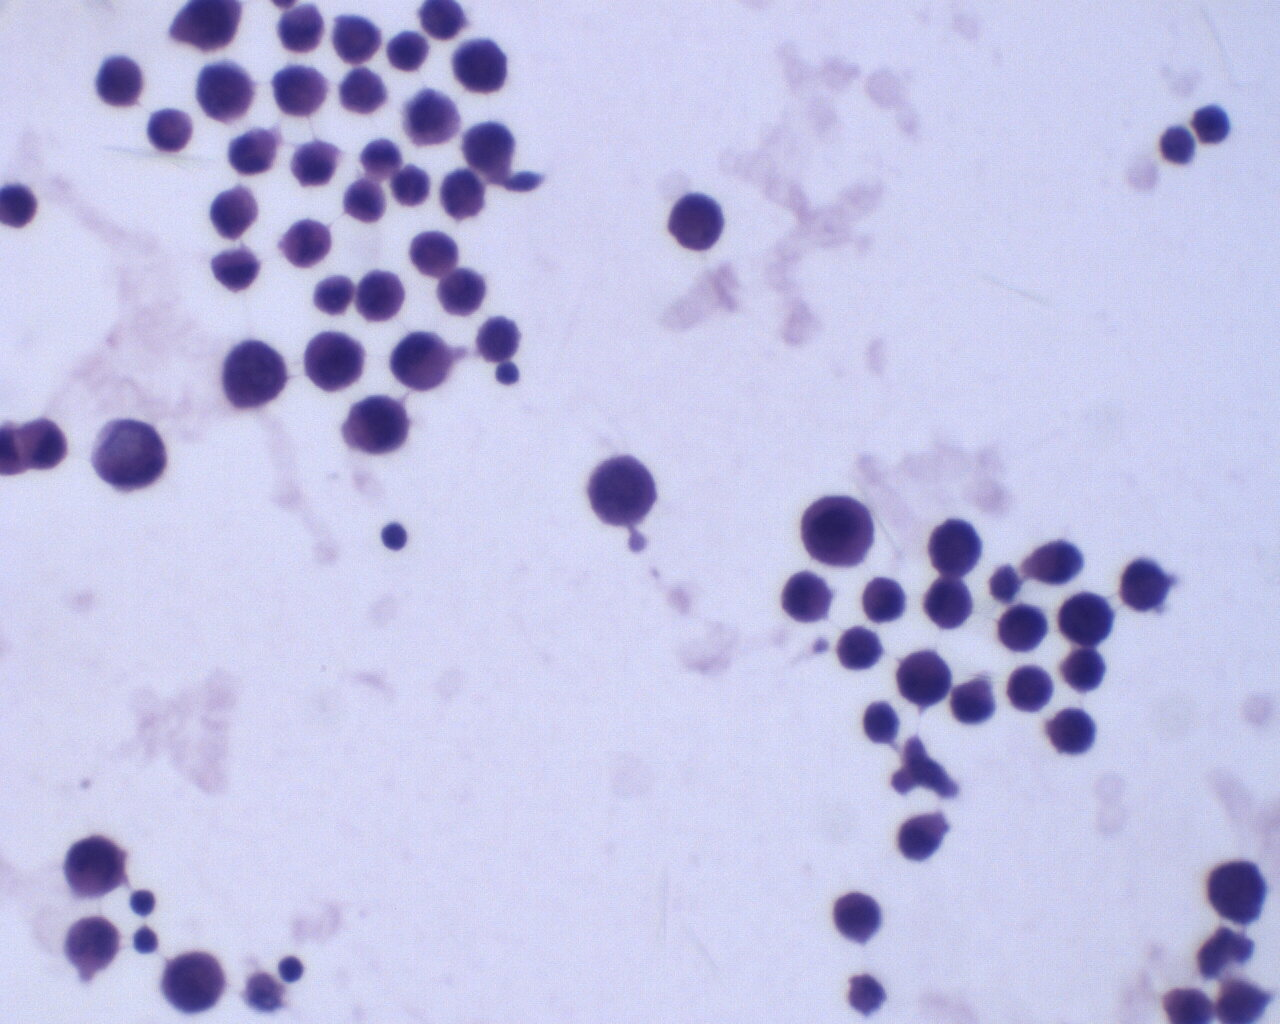ab: (801, 494, 877, 571), (1205, 850, 1274, 927), (589, 453, 656, 531), (224, 338, 289, 410), (61, 836, 130, 903), (346, 392, 416, 456), (159, 951, 227, 1016), (665, 187, 730, 253), (304, 330, 370, 394), (265, 60, 335, 119), (63, 912, 126, 976), (194, 59, 254, 125), (897, 647, 956, 711), (451, 37, 513, 95), (355, 266, 415, 324), (926, 516, 982, 576), (463, 121, 518, 177), (331, 11, 386, 68), (1118, 557, 1172, 613), (338, 64, 393, 117), (832, 888, 884, 942), (436, 267, 493, 317), (95, 53, 146, 108), (994, 604, 1049, 652), (410, 228, 461, 279), (437, 168, 488, 219), (1048, 706, 1098, 759), (1055, 646, 1110, 694), (1005, 664, 1055, 714), (861, 576, 912, 623), (836, 624, 884, 673)
lymph: (276, 953, 308, 984), (379, 519, 409, 554)
